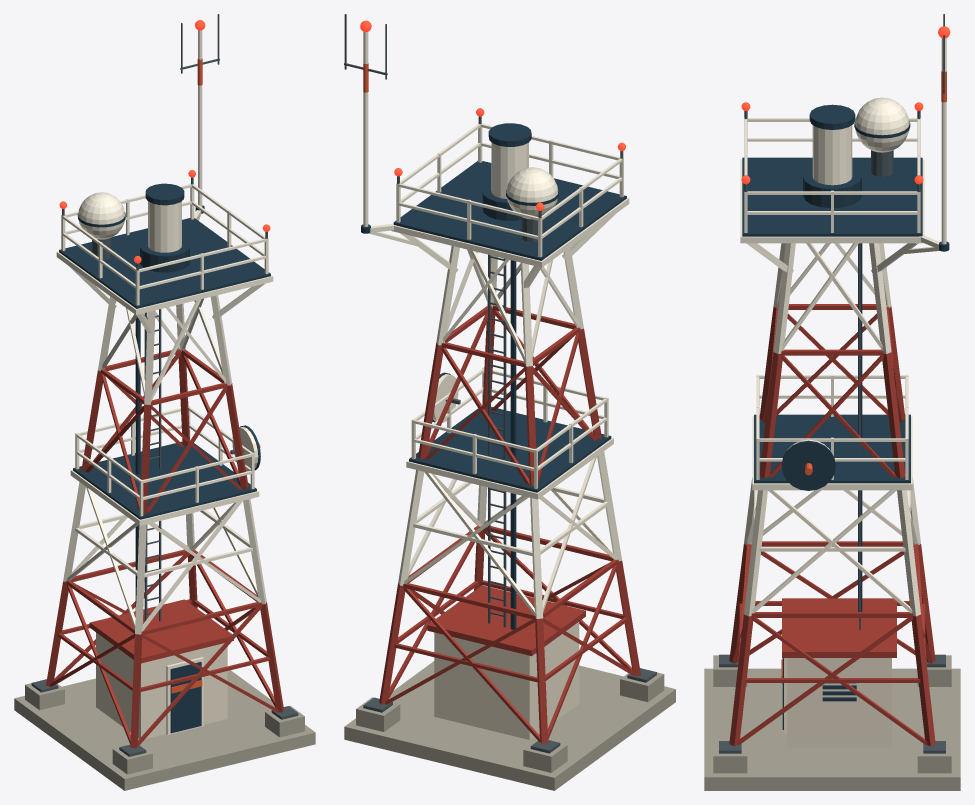
The model's file is radar_tower.glb.
The picture shows the model from 3 angles, left to right: view 1: azimuth 30°, elevation 25°; view 2: azimuth 150°, elevation 25°; view 3: azimuth 270°, elevation 25°; orthographic projection. The views are drawn at different scales.
Parts seen in each view (by area): view 1: radar_tower; view 2: radar_tower; view 3: radar_tower.
Boxes of the visible parts, left/top/right/bottom form: radar_tower: left=14, top=14, right=315, bottom=790; radar_tower: left=344, top=14, right=675, bottom=790; radar_tower: left=704, top=14, right=960, bottom=790.
Bounding box in the file's own units: 5.6 × 17.63 × 5.4.
